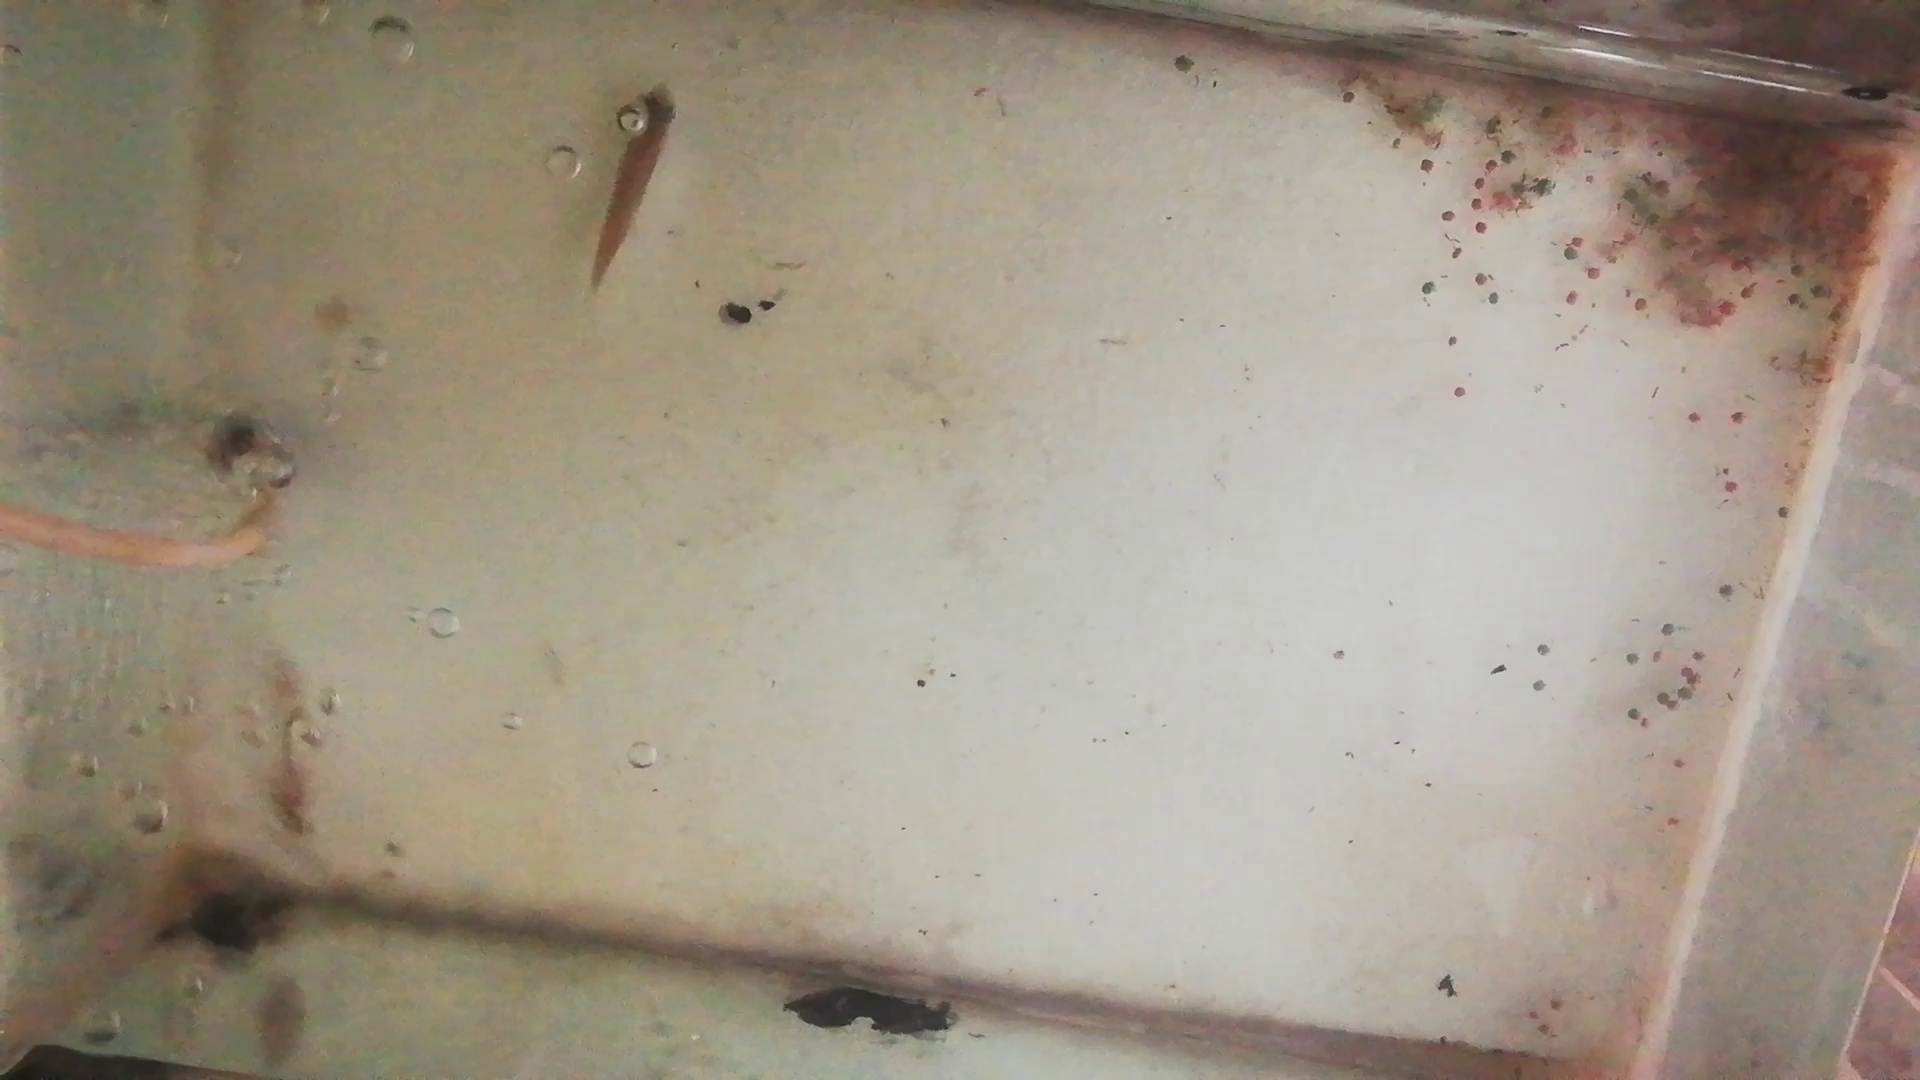fish: (592, 83, 680, 299), (264, 641, 320, 833)
